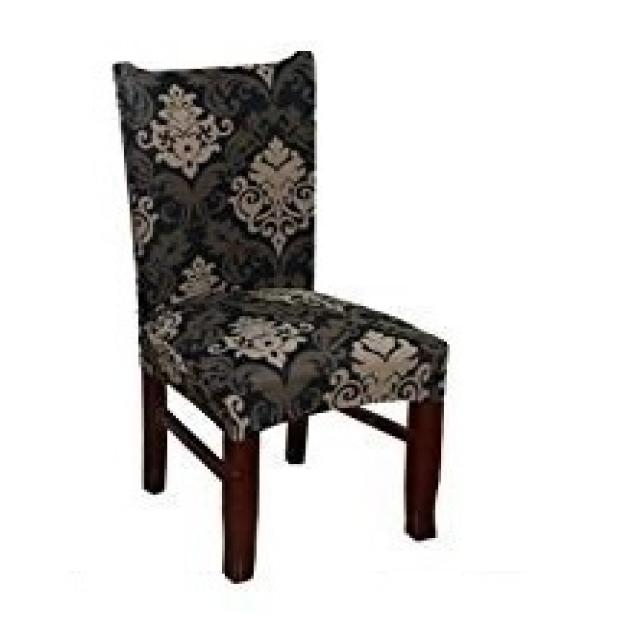Chair: (112, 48, 452, 584)
